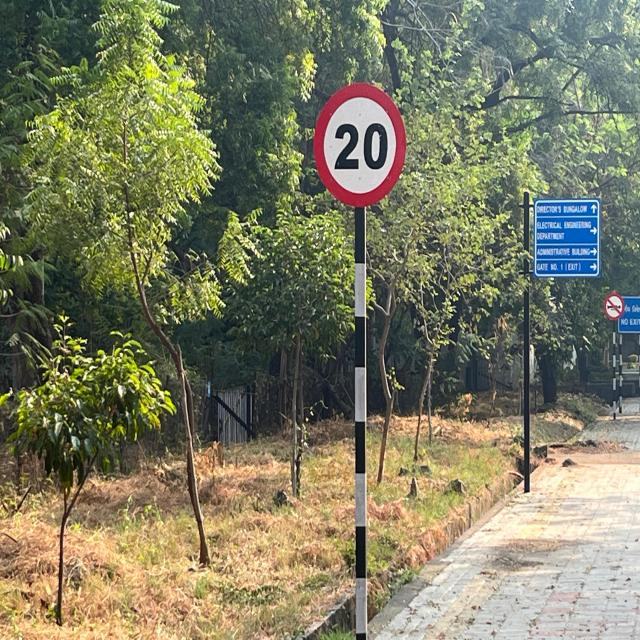forb_speed_over_20: (311, 82, 407, 212)
